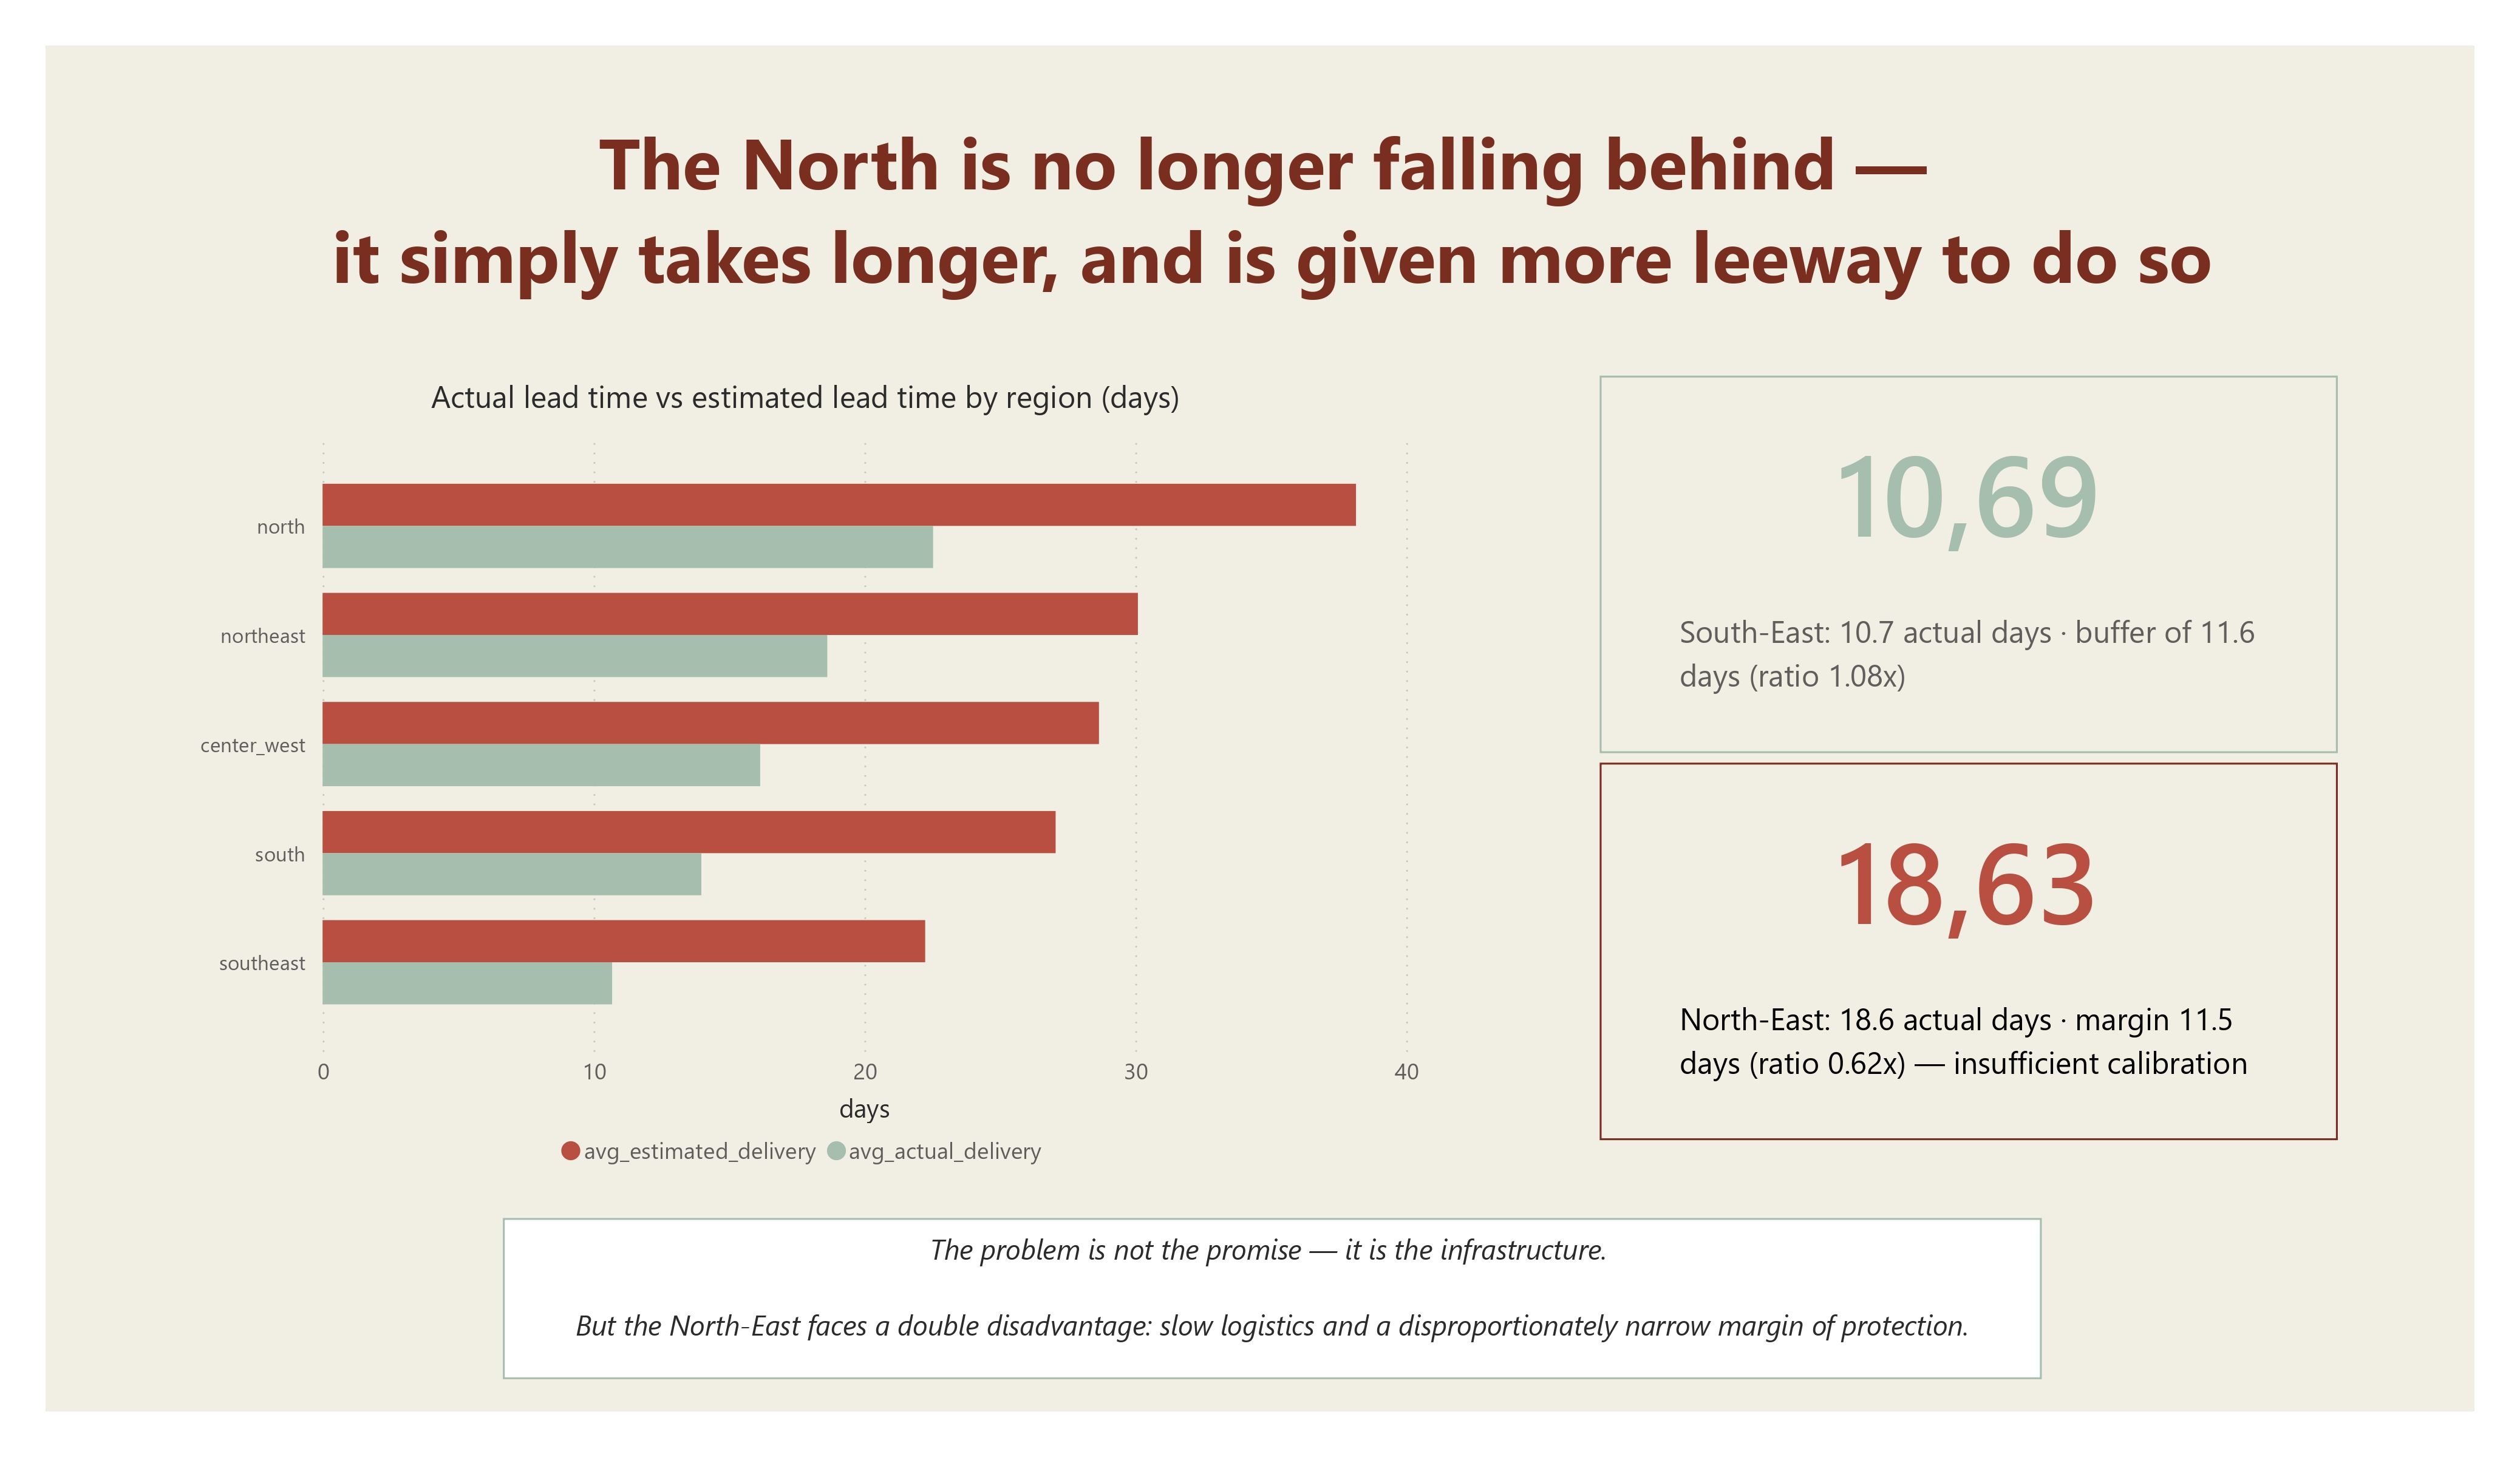

The page's visual inventory and layout, read from the dashboard file:
{"tool":"powerbi","page":{"name":"Structural Geography","canvas":[1280,720],"ordinal":3},"visuals":[{"type":"textbox","box":[134.7,11.3,1023.3,144.7],"z":0},{"type":"clusteredBarChart","title":"Actual lead time vs estimated lead time by region (days)","fields":{"Category":["q3_logistic.customer_region"],"Y":["q3_logistic.avg_estimated_delivery","q3_logistic.avg_actual_delivery"]},"box":[72,174,657.3,427.3],"z":1000},{"type":"textbox","box":[241.3,618,810.7,85.3],"z":2000},{"type":"cardVisual","fields":{"Data":["q3_logistic.avg_actual_delivery"]},"box":[818.7,174,389.3,198.7],"z":3000},{"type":"cardVisual","fields":{"Data":["q3_logistic.avg_actual_delivery"]},"box":[818.7,378,389.3,198.7],"z":4000}]}

Visuals, with their boxes on the page's 1280x720 design canvas (x1, y1, x2, y2). These are canvas units, not pixel positions in the 2520x1457 screenshot, which may show the page scaled, cropped or inside an application window:
textbox: [135,11,1158,156]
"Actual lead time vs estimated lead time by region (days)" clusteredBarChart: [72,174,729,601]
textbox: [241,618,1052,703]
cardVisual - q3_logistic.avg_actual_delivery: [819,174,1208,373]
cardVisual - q3_logistic.avg_actual_delivery: [819,378,1208,577]
